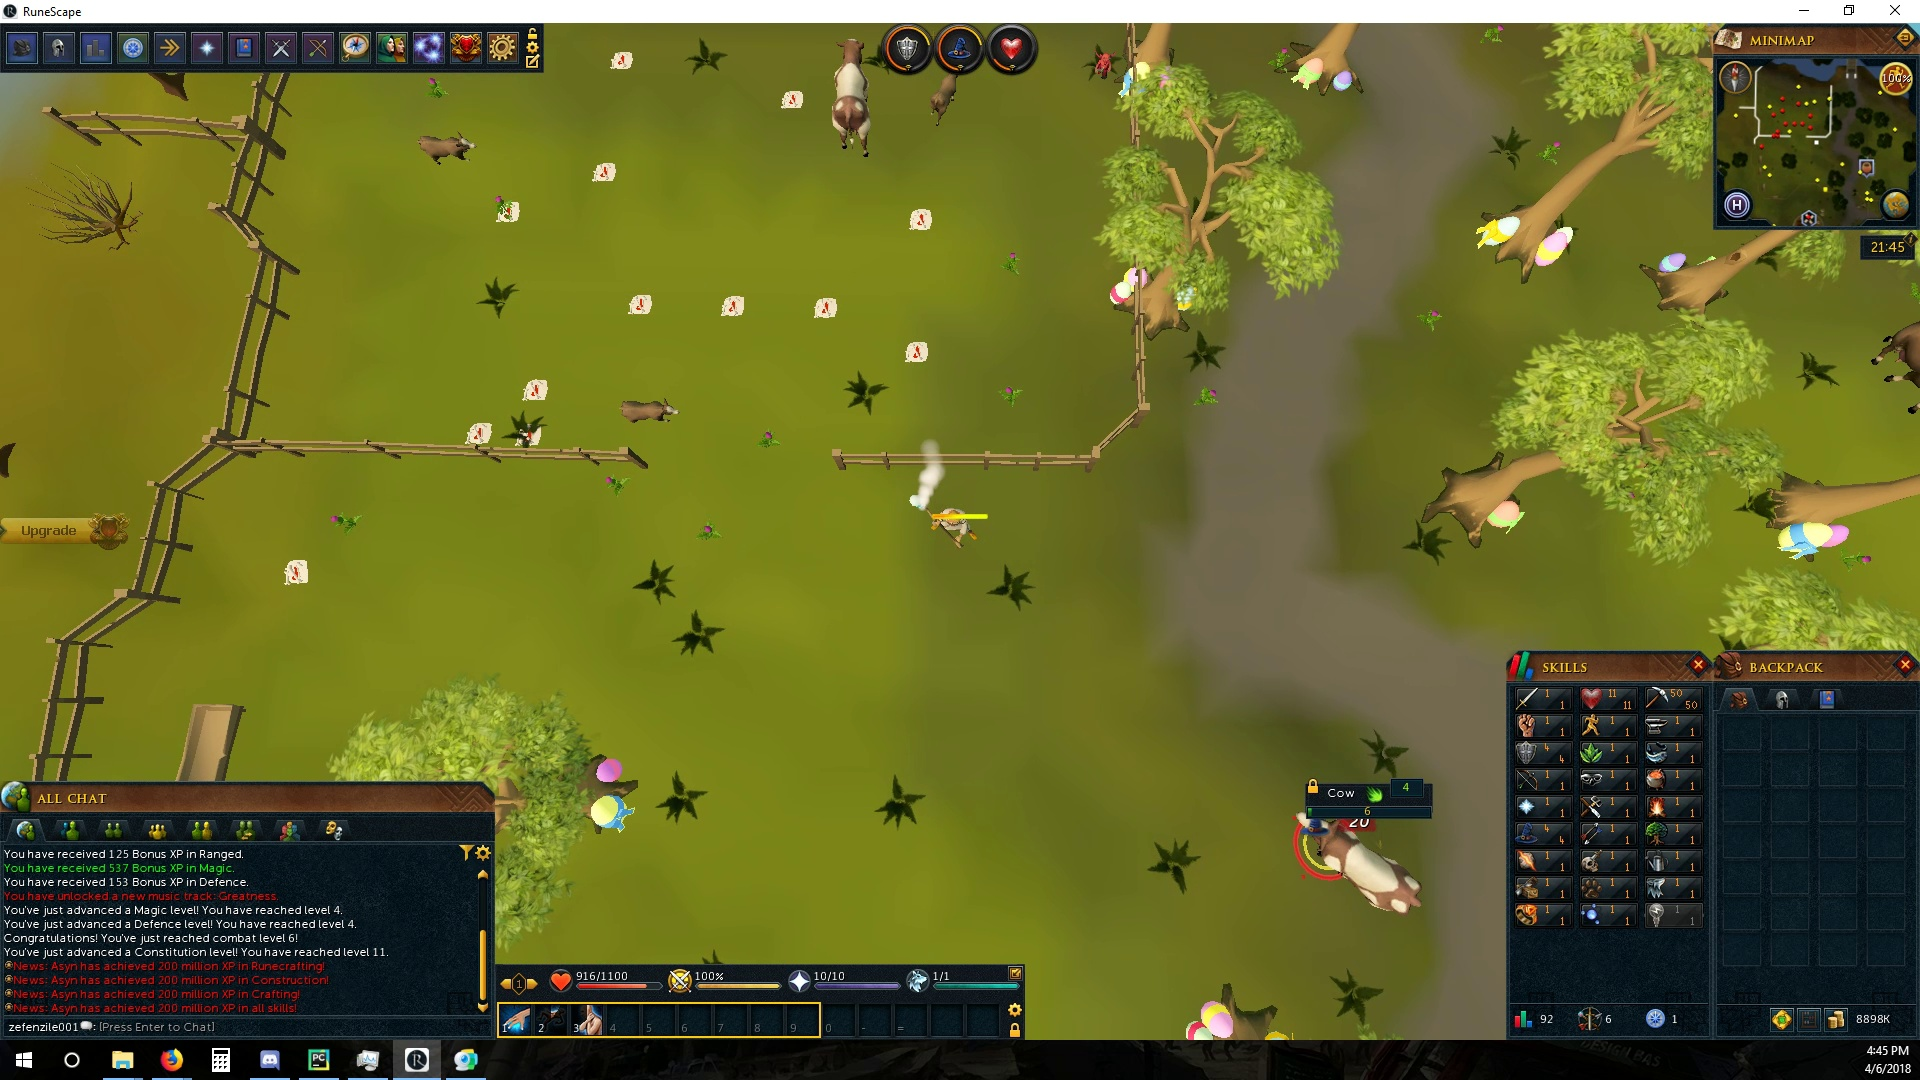calf: (415, 128, 479, 167), (922, 69, 960, 131), (616, 397, 680, 429)
cow: (1292, 812, 1424, 922), (822, 33, 874, 160)
cow_drop: (280, 558, 313, 589), (518, 375, 553, 404), (811, 294, 843, 323), (901, 339, 931, 368), (510, 422, 545, 447), (592, 156, 621, 185), (464, 418, 496, 444), (492, 198, 524, 224), (607, 47, 636, 74), (777, 87, 807, 111), (624, 294, 655, 316), (911, 203, 934, 233), (717, 295, 745, 319)
